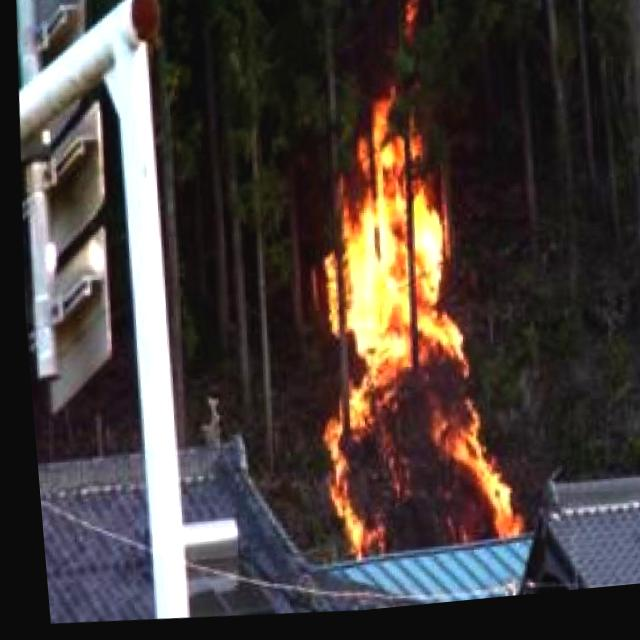helmet: (286, 97, 536, 568)
